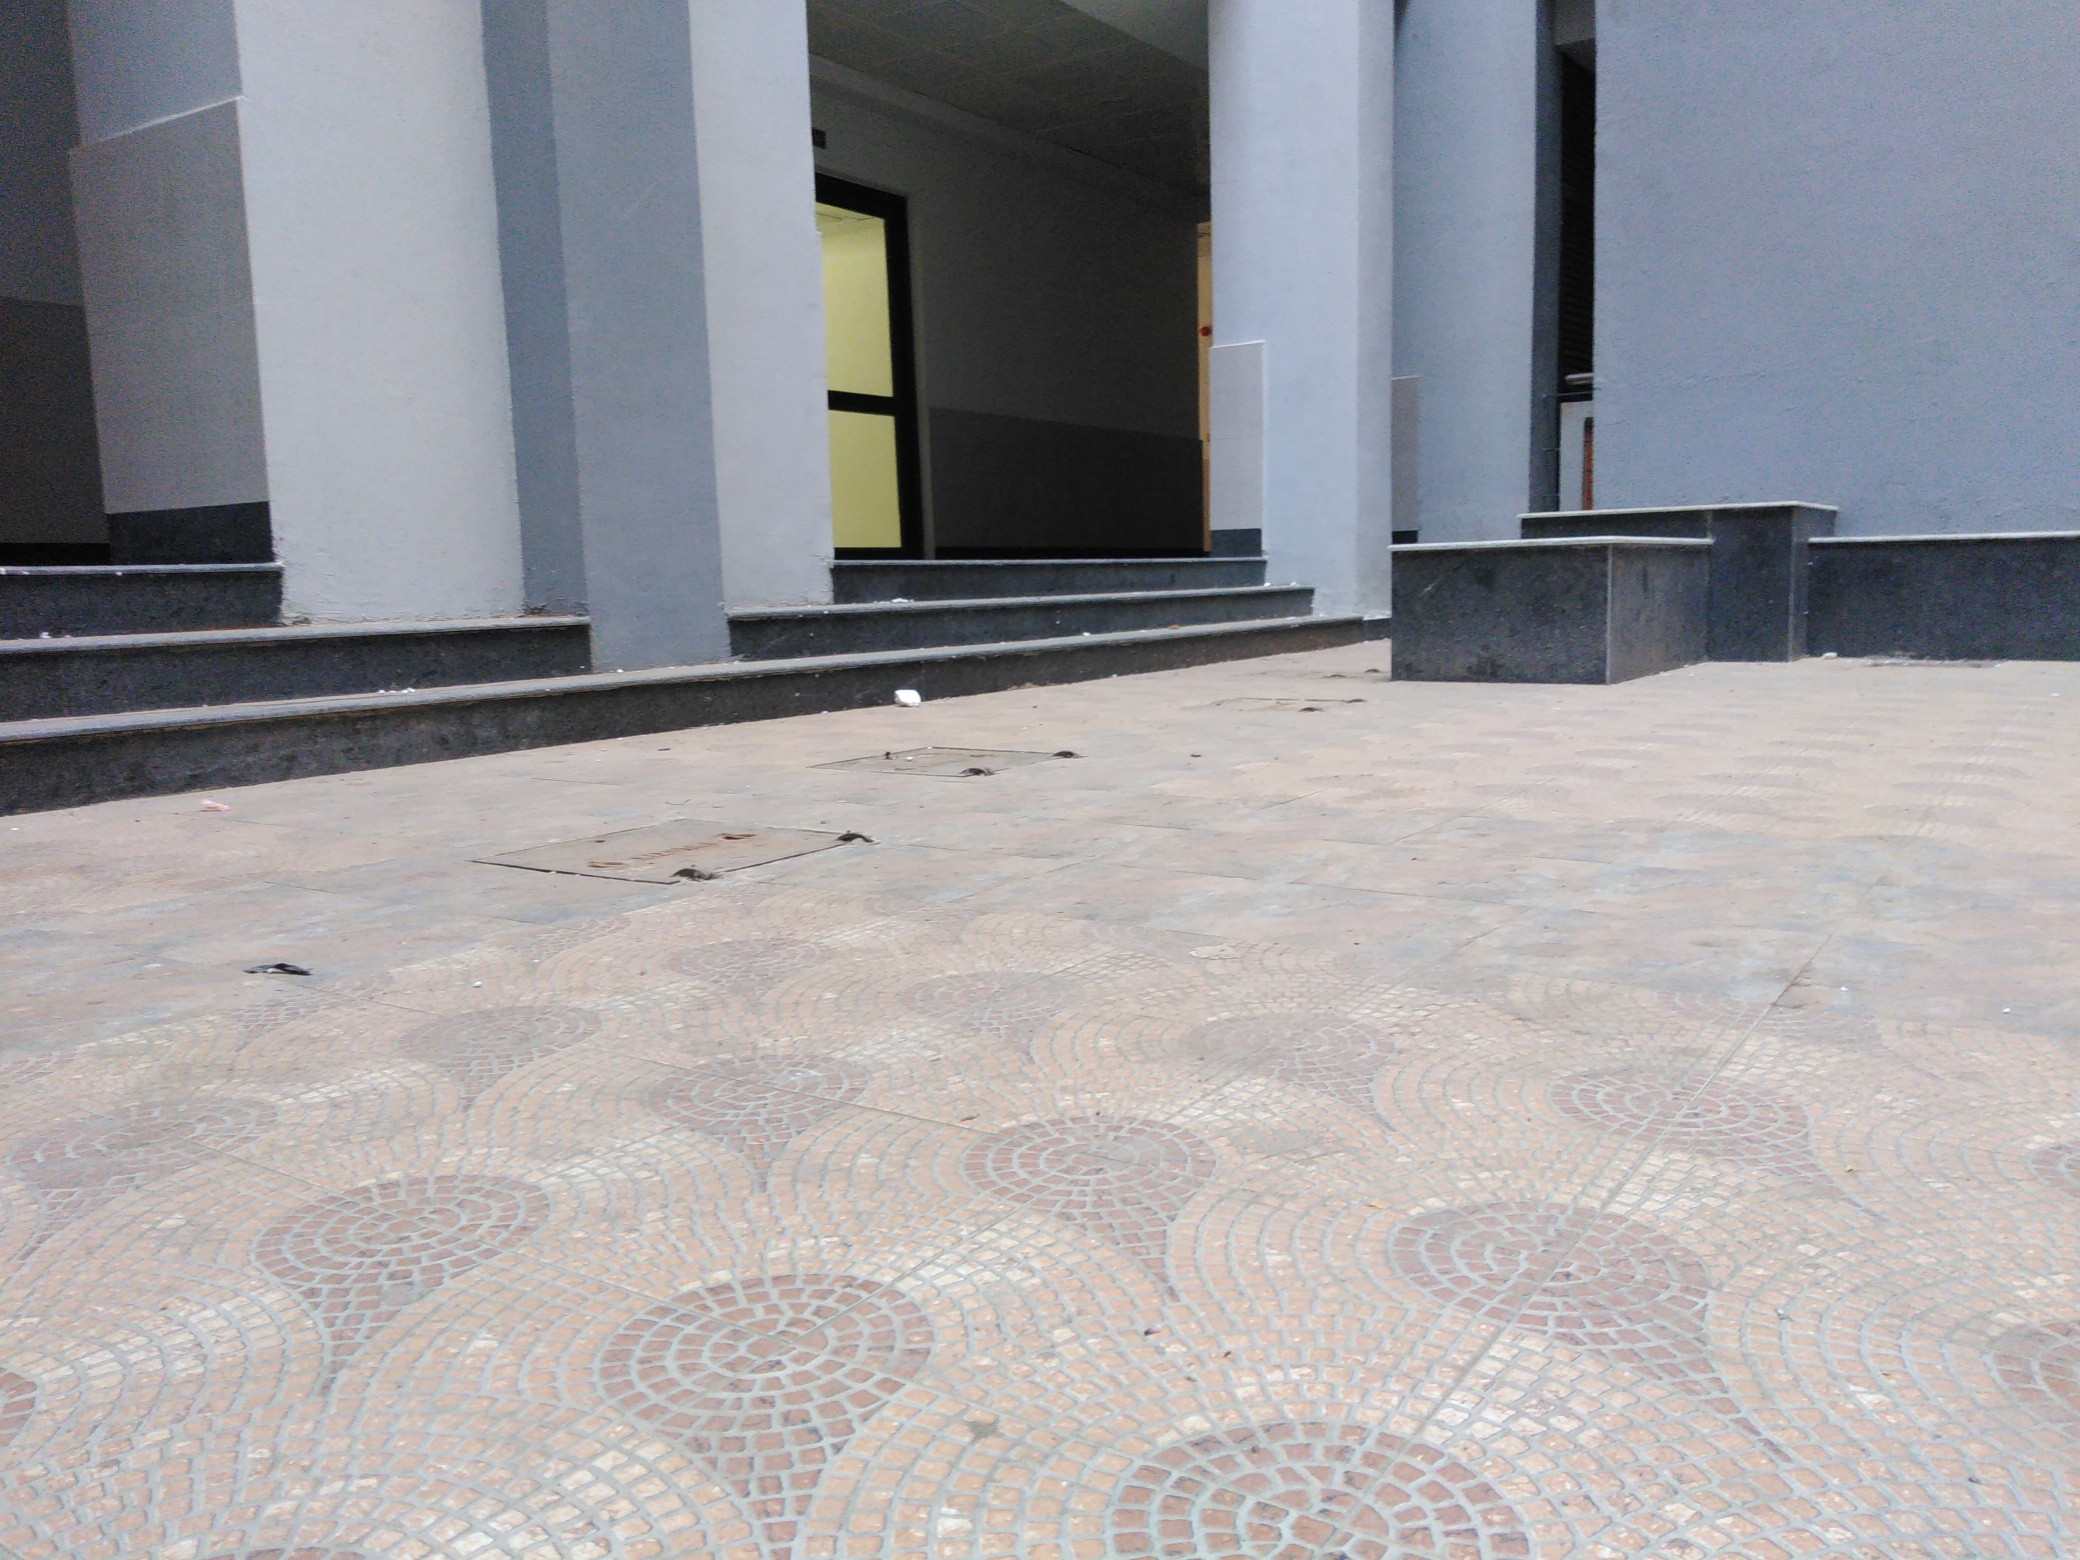stairs_up: (3, 560, 575, 787), (806, 542, 1332, 700)
